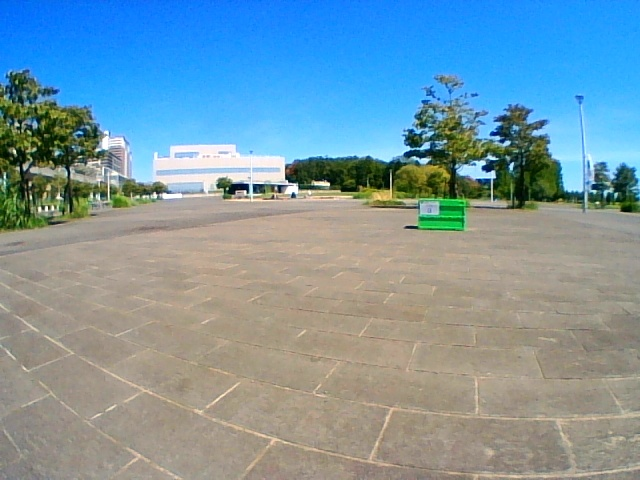green_box: (419, 198, 465, 230)
tag: (420, 202, 438, 215)
